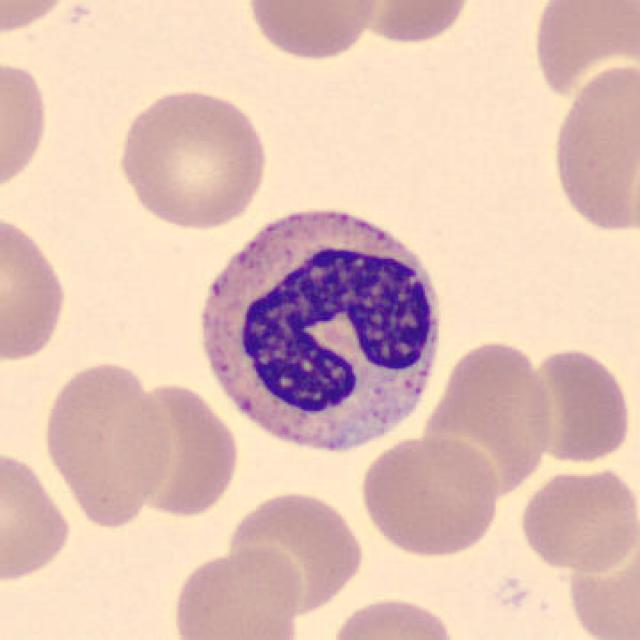Neutrophil: (187, 194, 453, 465)
RBC: (37, 356, 176, 529), (112, 83, 272, 231), (356, 432, 503, 561), (224, 487, 368, 617), (118, 375, 244, 522), (433, 340, 548, 494), (546, 60, 640, 238), (519, 342, 635, 467), (516, 462, 638, 576), (167, 545, 306, 640), (528, 0, 640, 108), (0, 208, 71, 367), (0, 444, 75, 586), (242, 0, 384, 63), (565, 529, 640, 640), (0, 54, 53, 199), (332, 0, 480, 48), (326, 594, 460, 640), (0, 0, 78, 39)
